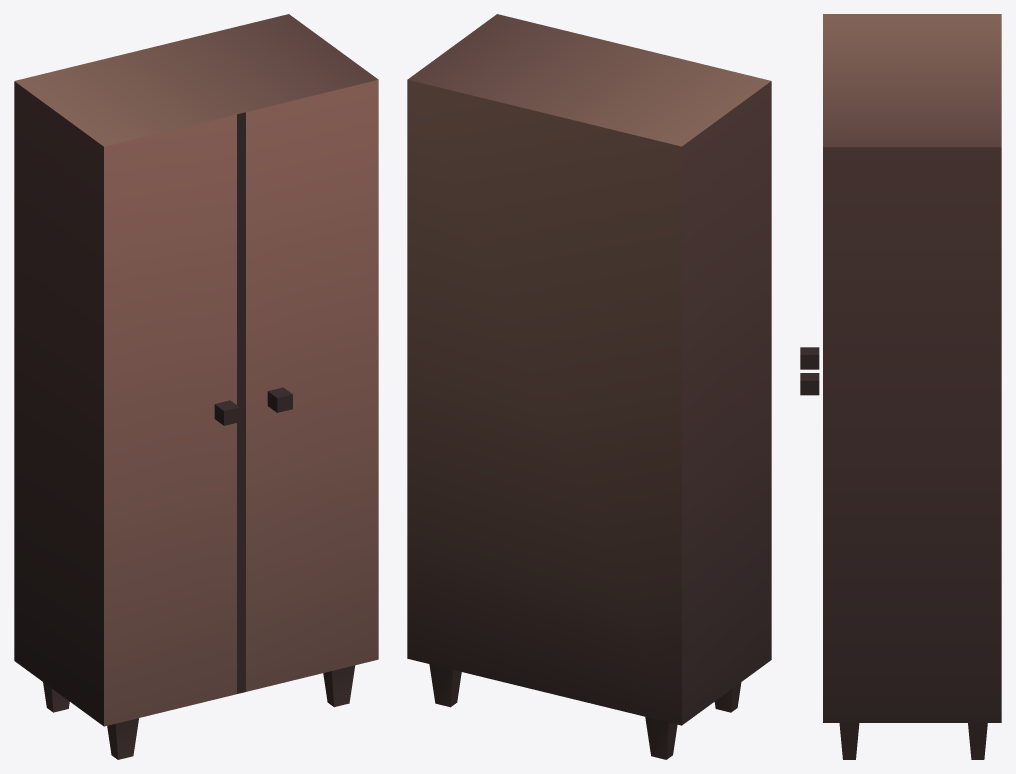
Rendered from closet.fbx.
3 views of the same model, side by side, from view 1: azimuth 30°, elevation 25°; view 2: azimuth 150°, elevation 25°; view 3: azimuth 270°, elevation 25° (orthographic).
Parts seen in each view (by area): view 1: closet; view 2: closet; view 3: closet.
Boxes of the visible parts, x1,y1,x2,y2 form: closet: (14, 14, 378, 759); closet: (407, 14, 771, 759); closet: (800, 14, 1001, 759).
Bounding box in the file's own units: 0.9551 × 2.08 × 0.6097.
